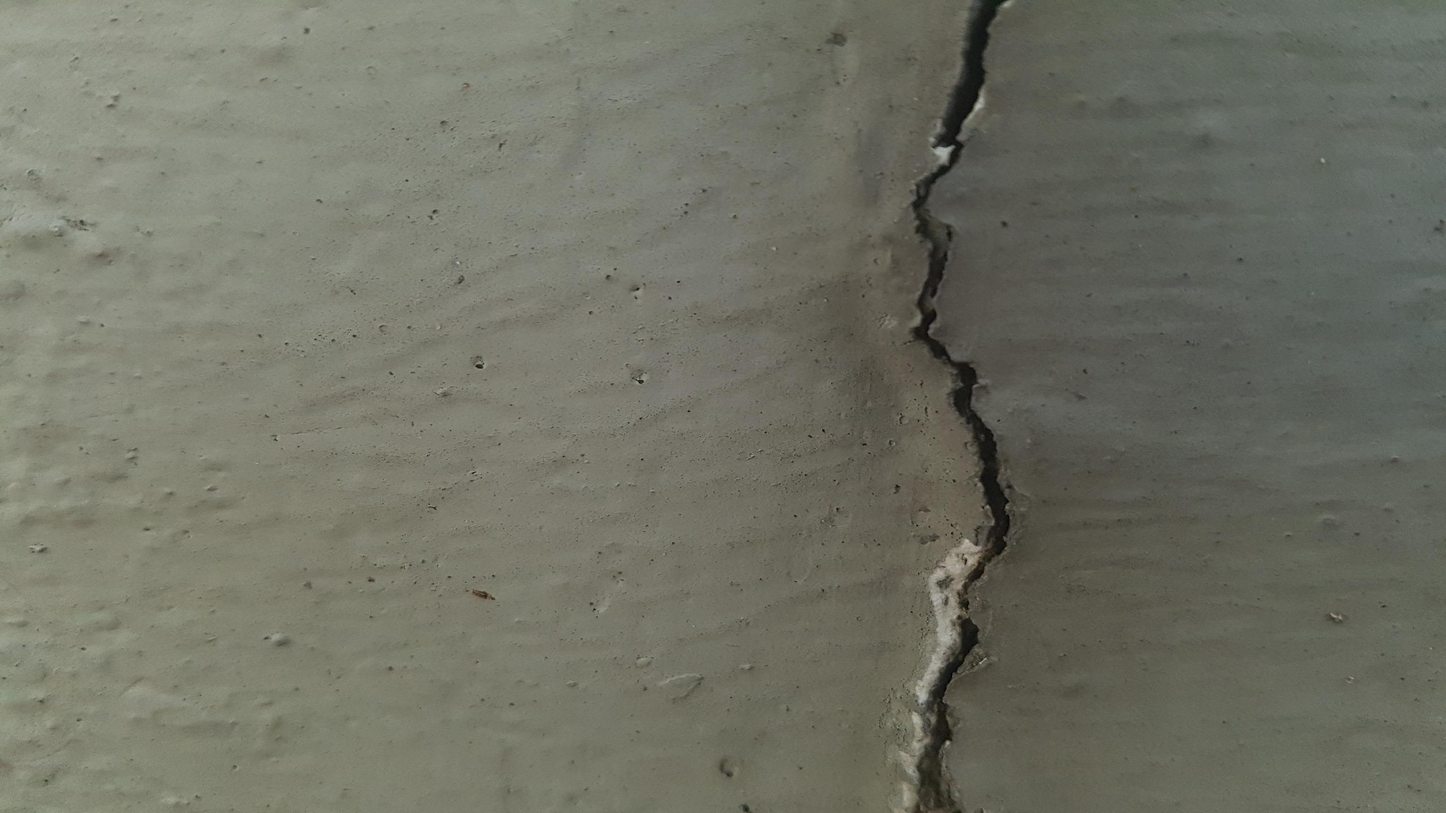crack: (914, 0, 1012, 812)
